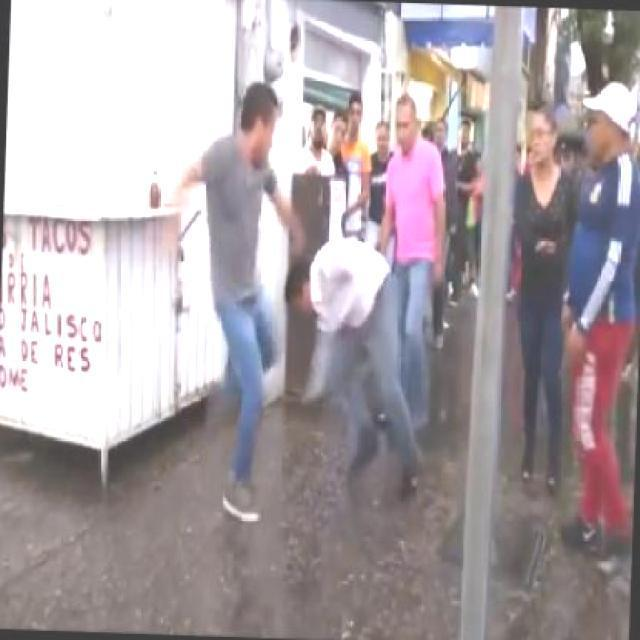fight: (148, 78, 442, 547)
non-fight: (563, 76, 639, 570), (500, 107, 582, 486)
